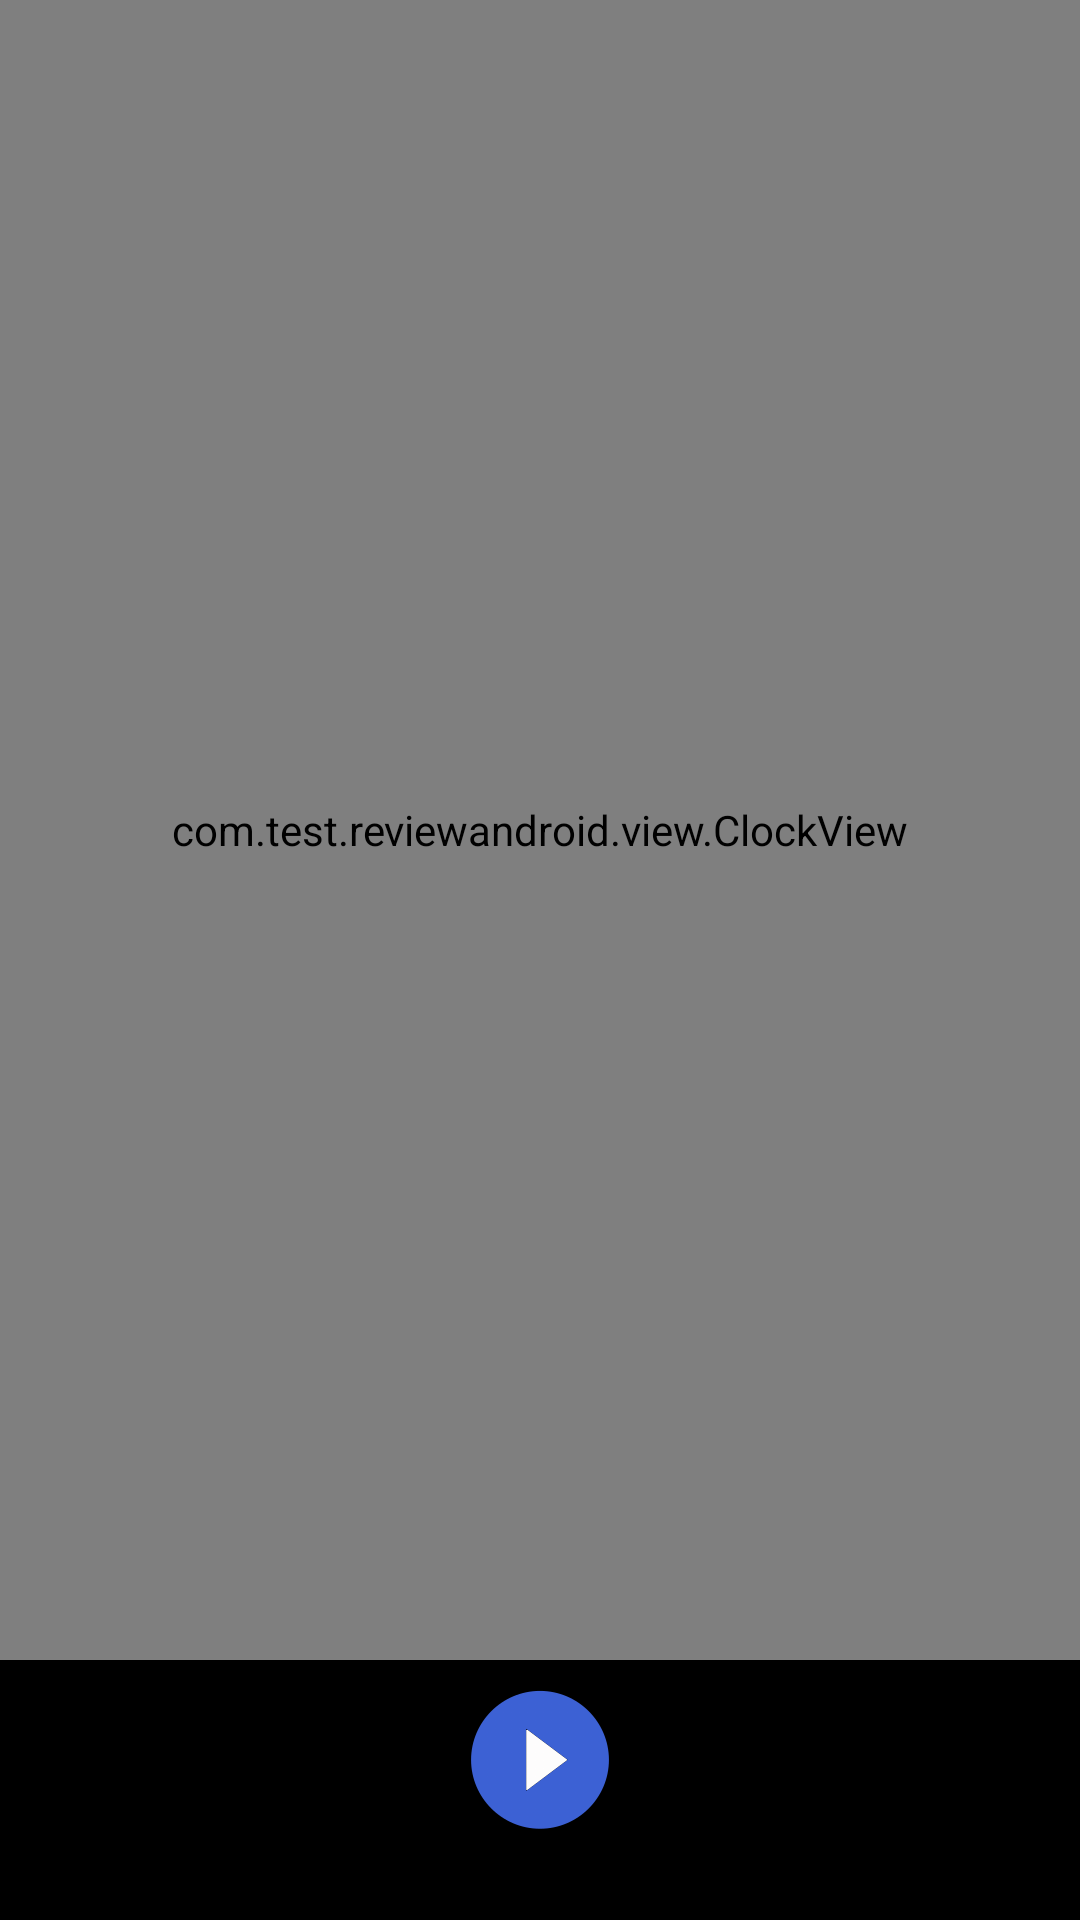

Icons on this 1080*1920 Android screen, each with its box as (x1=x1, y1=y1, x2=x2, y2=y2):
start: (x1=471, y1=1691, x2=609, y2=1829)
